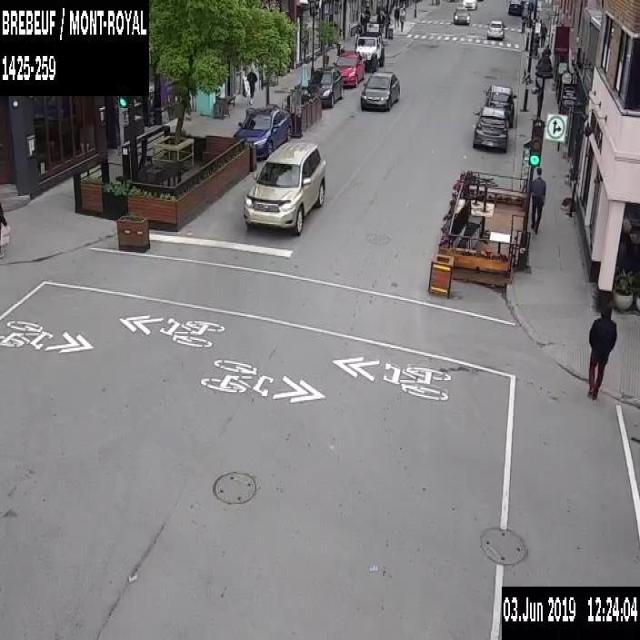pedestrian: (586, 304, 616, 399), (529, 165, 546, 232), (0, 200, 9, 257), (246, 65, 256, 100), (375, 10, 385, 38), (538, 20, 546, 48), (363, 4, 371, 29), (392, 5, 400, 29), (384, 10, 390, 38), (400, 6, 407, 30)
vehicle: (245, 144, 325, 233), (234, 105, 304, 162), (471, 108, 508, 151), (306, 66, 344, 106), (481, 84, 514, 127), (360, 74, 399, 109), (354, 33, 384, 71), (333, 50, 363, 86), (484, 17, 504, 40), (453, 7, 469, 24), (507, 0, 524, 13), (461, 0, 478, 11)
